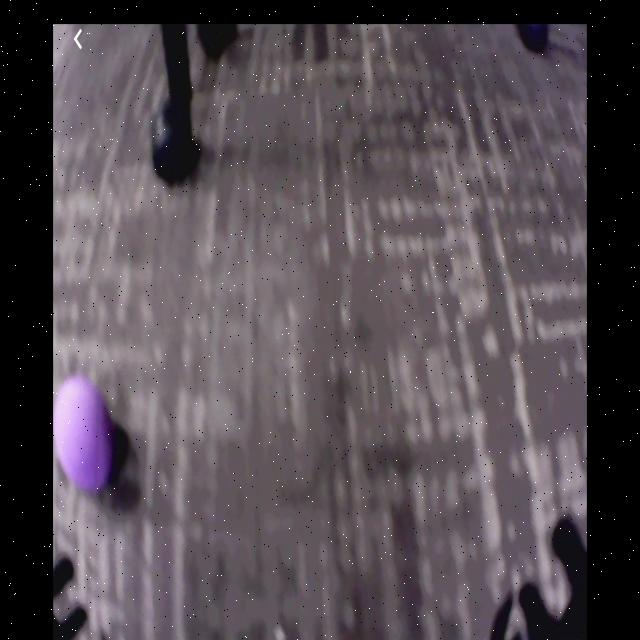ball: (54, 377, 118, 499)
